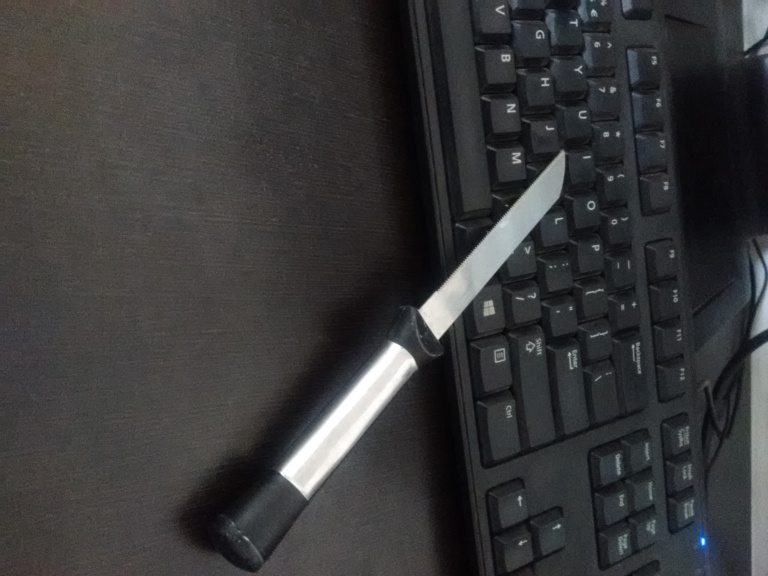knife: (202, 148, 570, 576)
